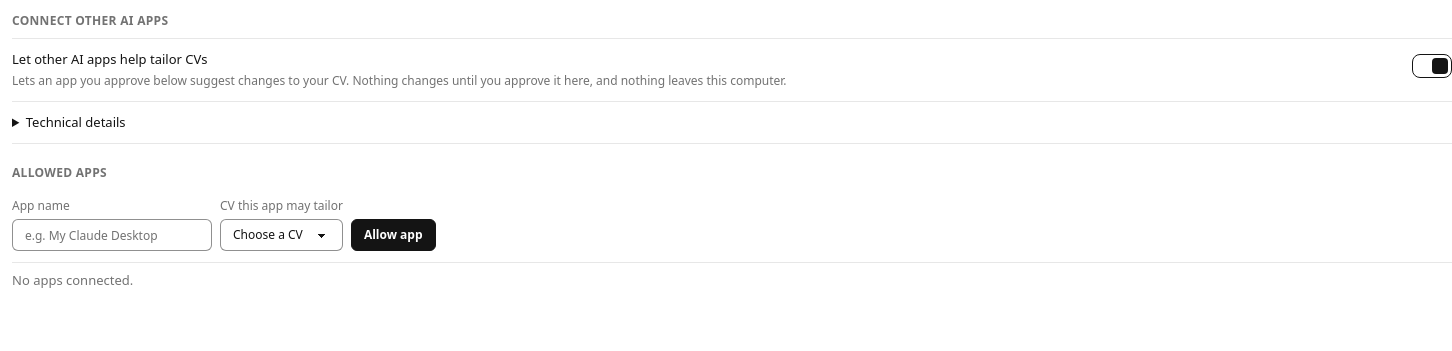
Test: McpEndpointSection (#421) › creates a grant from the form, never receiving the credential itself
The image size is (1452, 351).
Expected: the text "No apps connected." is shown, [12, 271, 133, 289]
In the field labelled "App name": (112, 235) [12, 219, 212, 251], type "New Client"
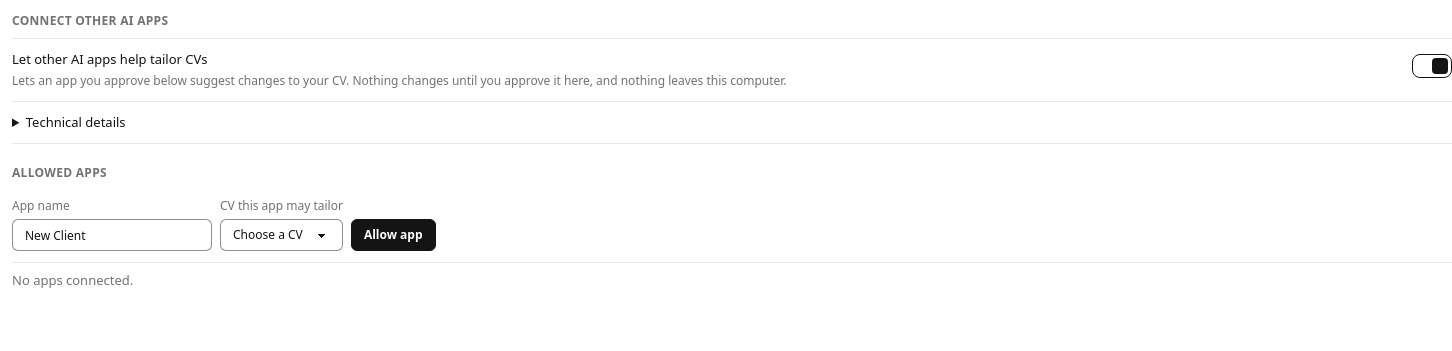
Select "My Resume" in the dropdown labelled "CV this app may tailor": (281, 235) [220, 219, 343, 251]
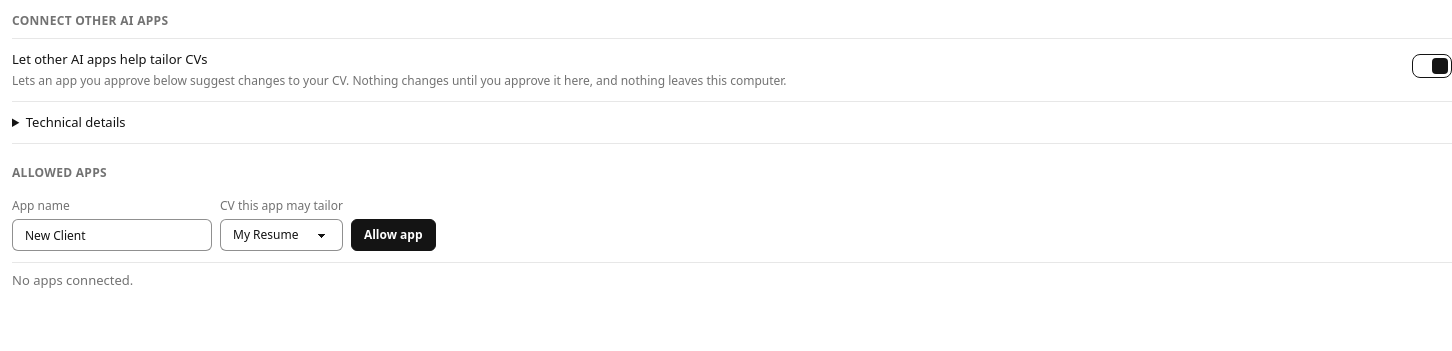
Click the button "Allow app": (393, 235) [351, 219, 436, 251]
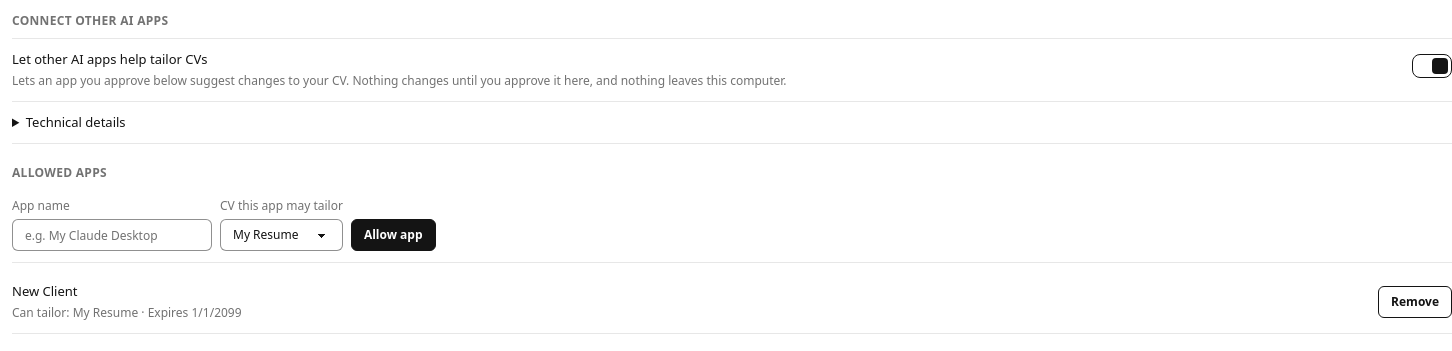
Expected: the text "New Client" is shown, [12, 282, 78, 302]
